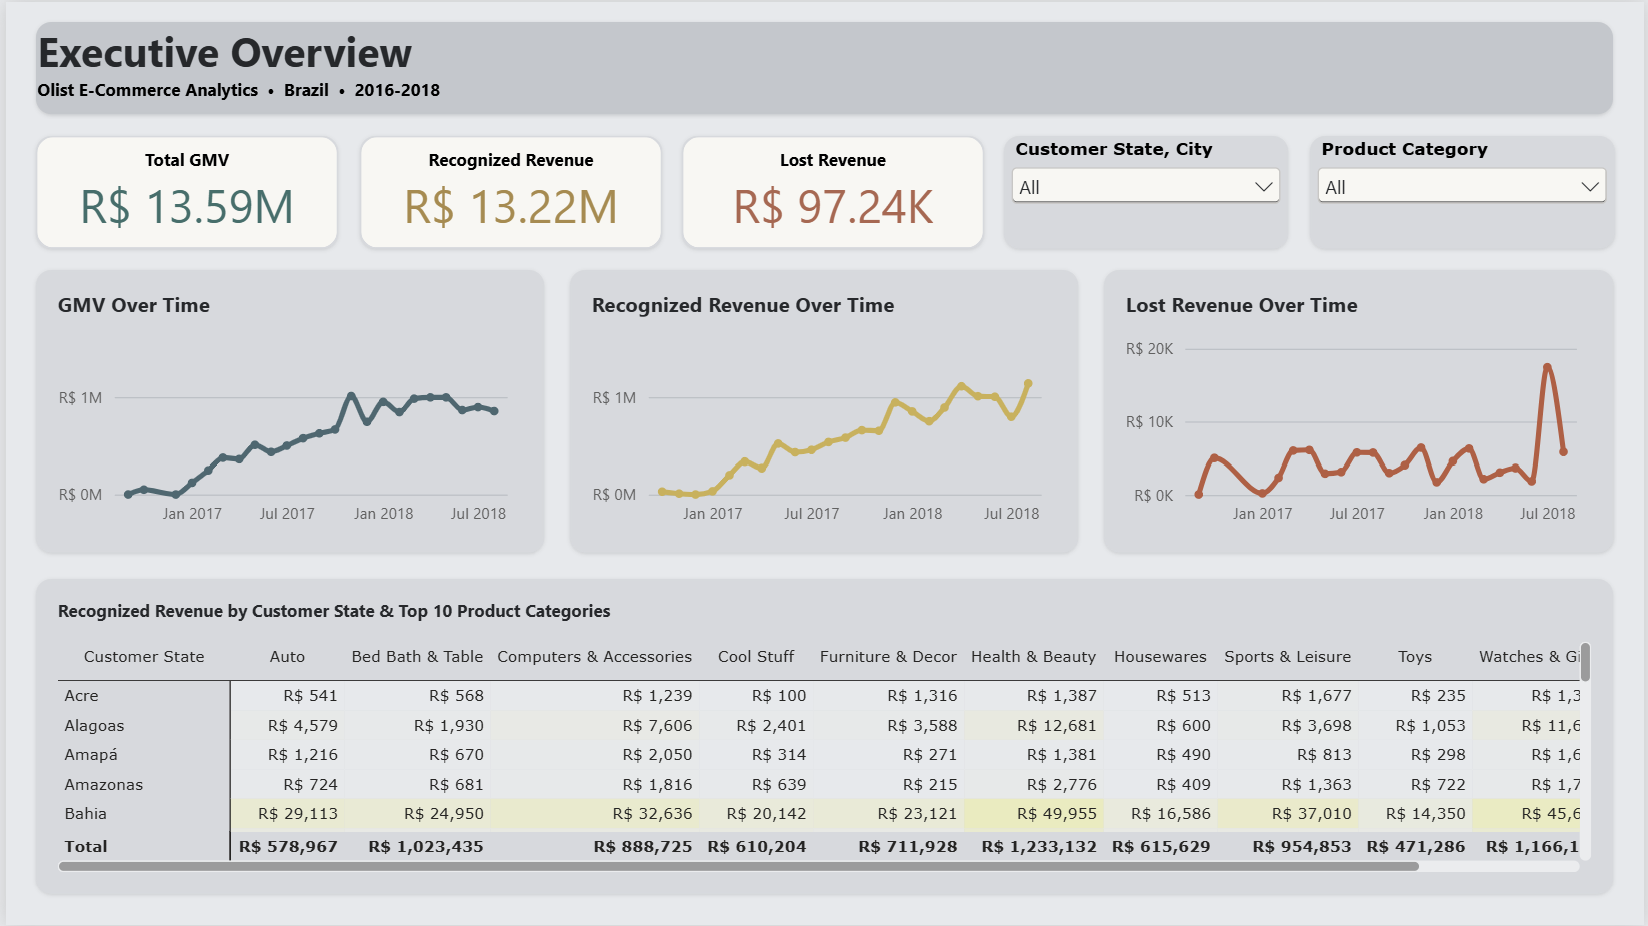

The dashboard page shown, as its layout file describes it:
{"tool":"powerbi","page":{"name":"Executive Overview","canvas":[1280,720],"ordinal":0},"visuals":[{"type":"cardVisual","fields":{"Data":["Sum(public gmv_over_time.price)"]},"box":[24,104,236,88],"z":1000},{"type":"cardVisual","fields":{"Data":["public customer_type_and_spending.Recognized Revenue"]},"box":[276,104,236,88],"z":2000},{"type":"cardVisual","fields":{"Data":["public customer_type_and_spending.Lost gmv"]},"box":[528,104,236,88],"z":3000},{"type":"lineChart","title":"GMV Over Time","fields":{"Y":["Sum(public gmv_over_time.gmv)"],"Category":["public gmv_over_time.order_purchase_timestamp.Variation.Date Hierarchy.Year","public gmv_over_time.order_purchase_timestamp.Variation.Date Hierarchy.Quarter","public gmv_over_time.order_purchase_timestamp.Variation.Date Hierarchy.Month","public gmv_over_time.order_purchase_timestamp.Variation.Date Hierarchy.Day"]},"box":[24,210,397,220],"z":4000},{"type":"lineChart","title":"Recognized Revenue Over Time","fields":{"Y":["public customer_type_and_spending.Recognized Revenue"],"Category":["public gmv_over_time.order_delivered_customer_date.Variation.Date Hierarchy.Year","public gmv_over_time.order_delivered_customer_date.Variation.Date Hierarchy.Quarter","public gmv_over_time.order_delivered_customer_date.Variation.Date Hierarchy.Month","public gmv_over_time.order_delivered_customer_date.Variation.Date Hierarchy.Day"]},"box":[441,210,397,220],"z":5000},{"type":"lineChart","title":"Lost Revenue Over Time","fields":{"Y":["public customer_type_and_spending.Lost gmv"],"Category":["public gmv_over_time.order_purchase_timestamp.Variation.Date Hierarchy.Year","public gmv_over_time.order_purchase_timestamp.Variation.Date Hierarchy.Quarter","public gmv_over_time.order_purchase_timestamp.Variation.Date Hierarchy.Month","public gmv_over_time.order_purchase_timestamp.Variation.Date Hierarchy.Day"]},"box":[858,210,398,220],"z":6000},{"type":"pivotTable","title":"Recognized Revenue by Customer State & Top 10 Product Categories","fields":{"Values":["public customer_type_and_spending.Recognized Revenue"],"Rows":["public gmv_over_time.Customer States Display"],"Columns":["public gmv_over_time.Top Categories Display"]},"box":[24.1,449.3,1232,246],"z":7000},{"type":"slicer","fields":{"Values":["public gmv_over_time.Customer States Display","public gmv_over_time.customer_city"]},"box":[780,104,222,88],"z":8000},{"type":"slicer","fields":{"Values":["public gmv_over_time.product_category_name_translated"]},"box":[1018,104,238,88],"z":9000},{"type":"textbox","box":[24,16,1232,72],"z":50000}]}

Visuals, with their boxes in screenshot pixels (x1, y1, x2, y2), scaled from the page's 1280x720 canvas onto the 1648x926 screenshot:
cardVisual - Sum(public gmv_over_time.price): rect(31, 134, 335, 247)
cardVisual - public customer_type_and_spending.Recognized Revenue: rect(355, 134, 659, 247)
cardVisual - public customer_type_and_spending.Lost gmv: rect(680, 134, 984, 247)
"GMV Over Time" lineChart: rect(31, 270, 542, 553)
"Recognized Revenue Over Time" lineChart: rect(568, 270, 1079, 553)
"Lost Revenue Over Time" lineChart: rect(1105, 270, 1617, 553)
"Recognized Revenue by Customer State & Top 10 Product Categories" pivotTable: rect(31, 578, 1617, 894)
slicer - public gmv_over_time.Customer States Display x public gmv_over_time.customer_city: rect(1004, 134, 1290, 247)
slicer - public gmv_over_time.product_category_name_translated: rect(1311, 134, 1617, 247)
textbox: rect(31, 21, 1617, 113)
